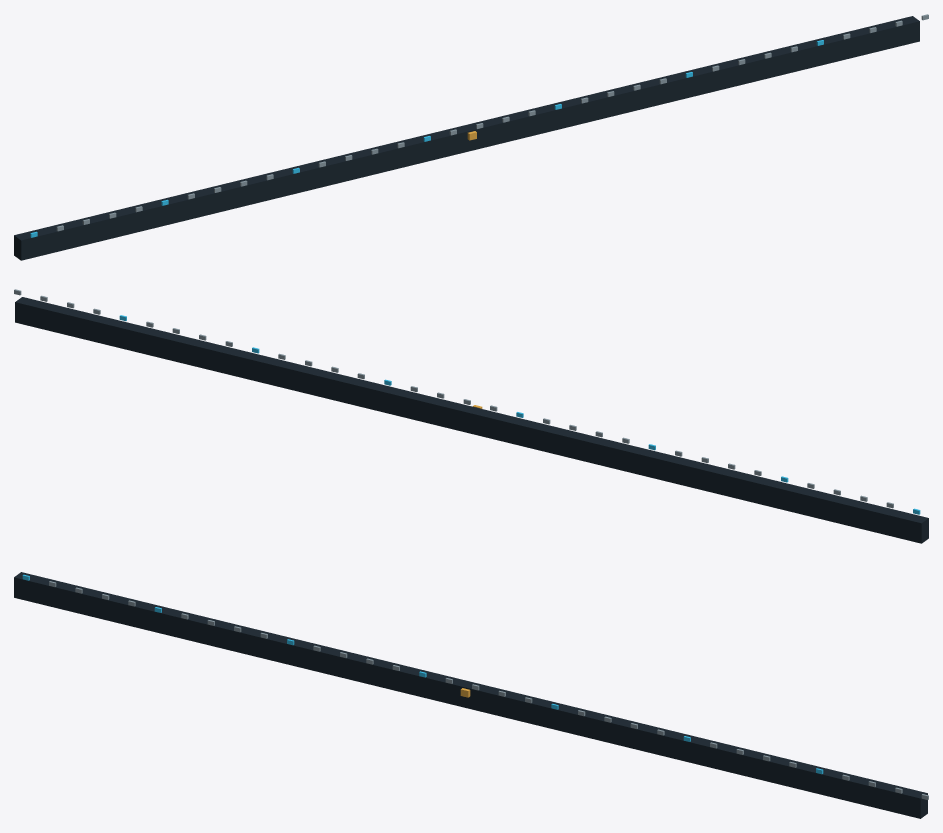
File: 14_L84_OrbitalEphemerisDisplayRail.fbx
3 views of the same model, one above another, from view 1: azimuth 30°, elevation 25°; view 2: azimuth 150°, elevation 25°; view 3: azimuth 330°, elevation 25° (orthographic).
Parts seen in each view (by area): view 1: L84_OrbitalEphemerisDisplayRail; view 2: L84_OrbitalEphemerisDisplayRail; view 3: L84_OrbitalEphemerisDisplayRail.
Boxes of the visible parts, x1,y1,x2,y2 form: L84_OrbitalEphemerisDisplayRail: [14, 14, 928, 260]; L84_OrbitalEphemerisDisplayRail: [14, 289, 928, 543]; L84_OrbitalEphemerisDisplayRail: [14, 572, 928, 818].
Size of the model in its own units: 1453 by 38.5 by 27.5.
